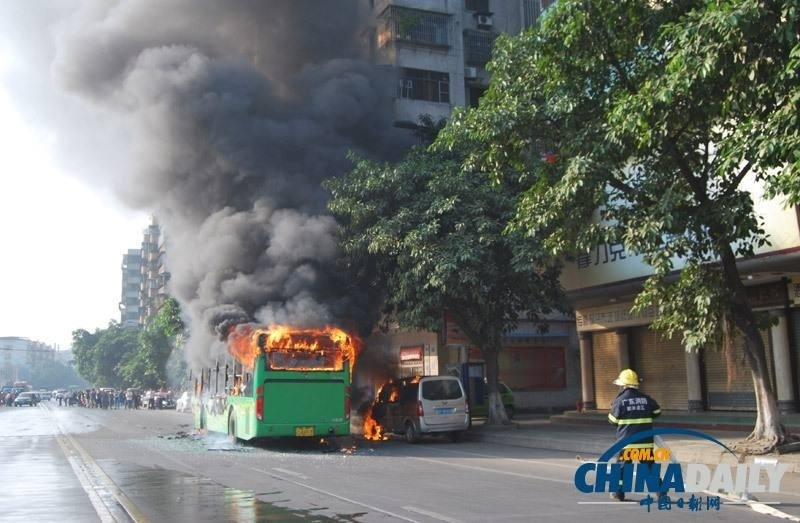fire: (227, 318, 361, 379), (358, 376, 414, 444)
